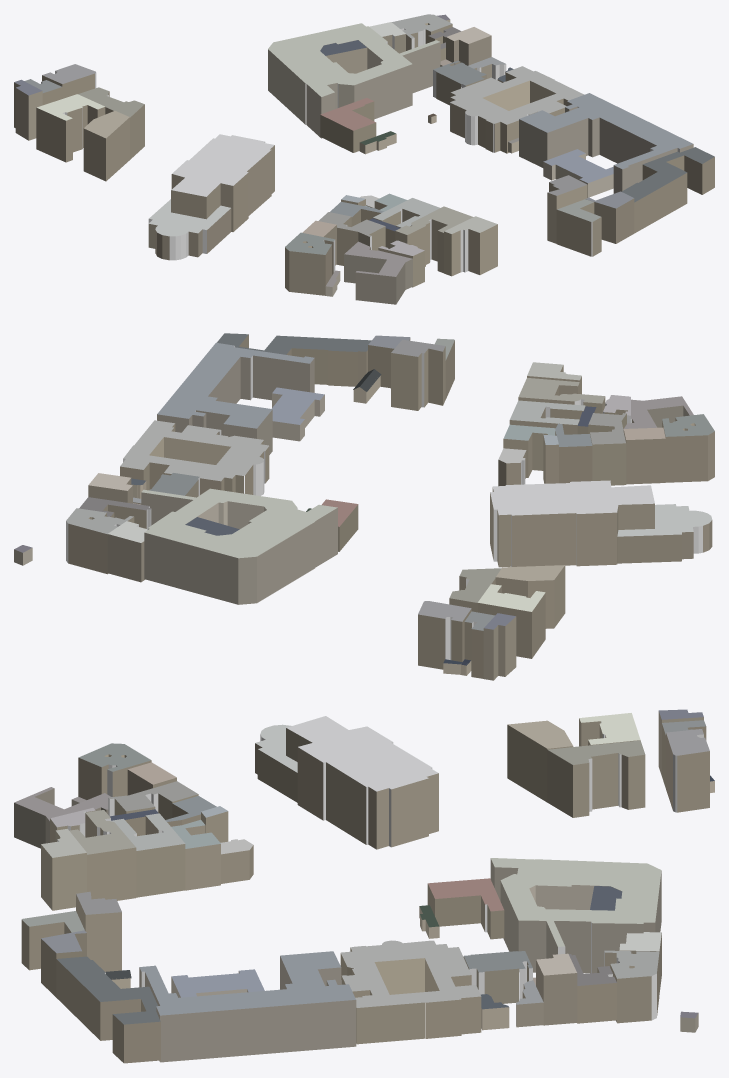
3 renders of one model, top to bottom at view 1: azimuth 30°, elevation 25°; view 2: azimuth 150°, elevation 25°; view 3: azimuth 270°, elevation 25°, orthographic. The views are drawn at different scales.
Visible parts, largest first — view 1: tuile; view 2: tuile; view 3: tuile.
Part boxes in pixels (bbox=[...]): tuile: bbox=[14, 14, 714, 304]; tuile: bbox=[14, 333, 714, 680]; tuile: bbox=[14, 709, 714, 1063].
Size of the model in its own units: 273 by 28.99 by 268.
